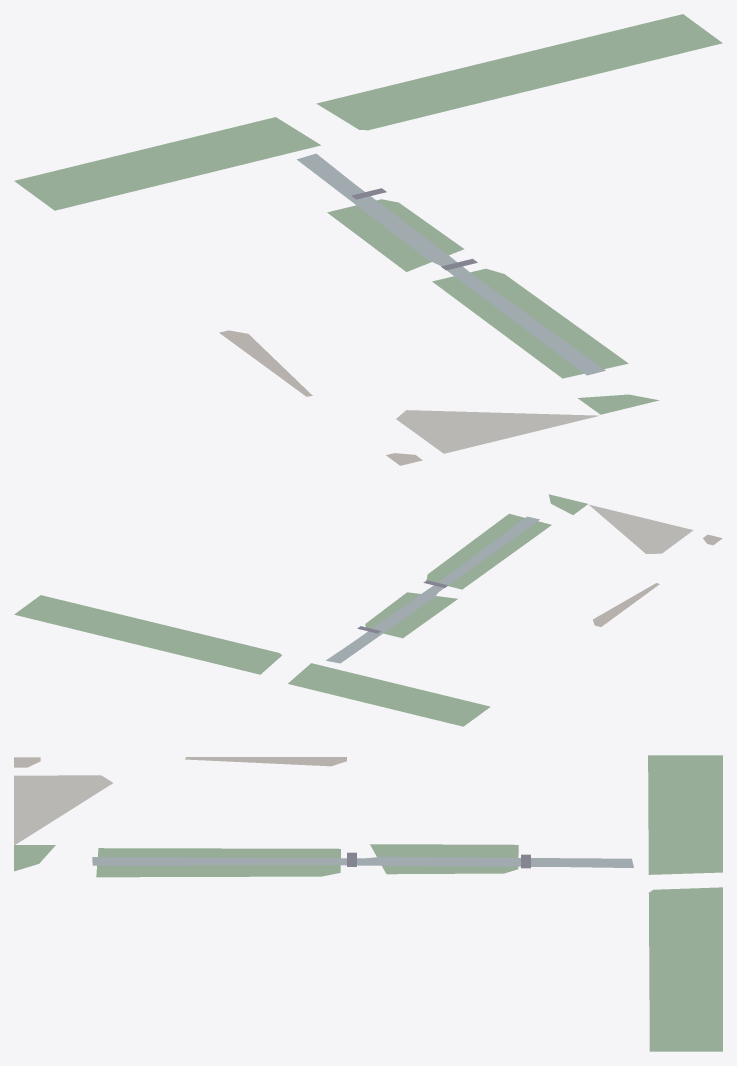
Rendered from 124_69_mid.glb.
3 renders of one model, top to bottom at view 1: azimuth 30°, elevation 25°; view 2: azimuth 150°, elevation 25°; view 3: azimuth 270°, elevation 25°, orthographic. The views are drawn at different scales.
Bounding box in the file's own units: 500 × 5.3 × 500.
